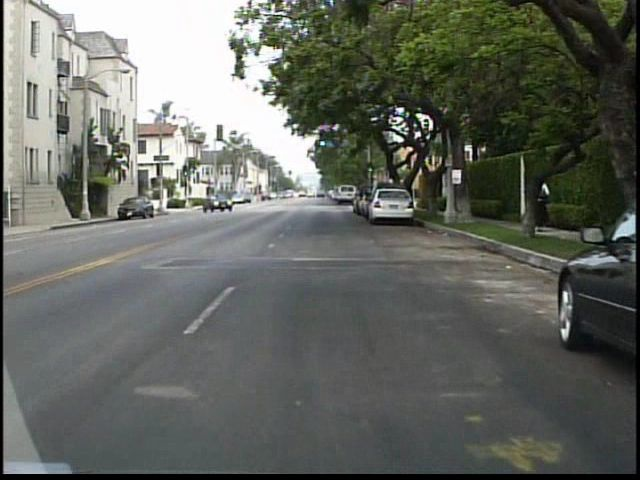person: (521, 170, 553, 240)
